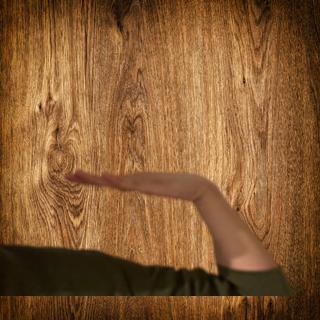WAIT: (62, 164, 219, 207)
